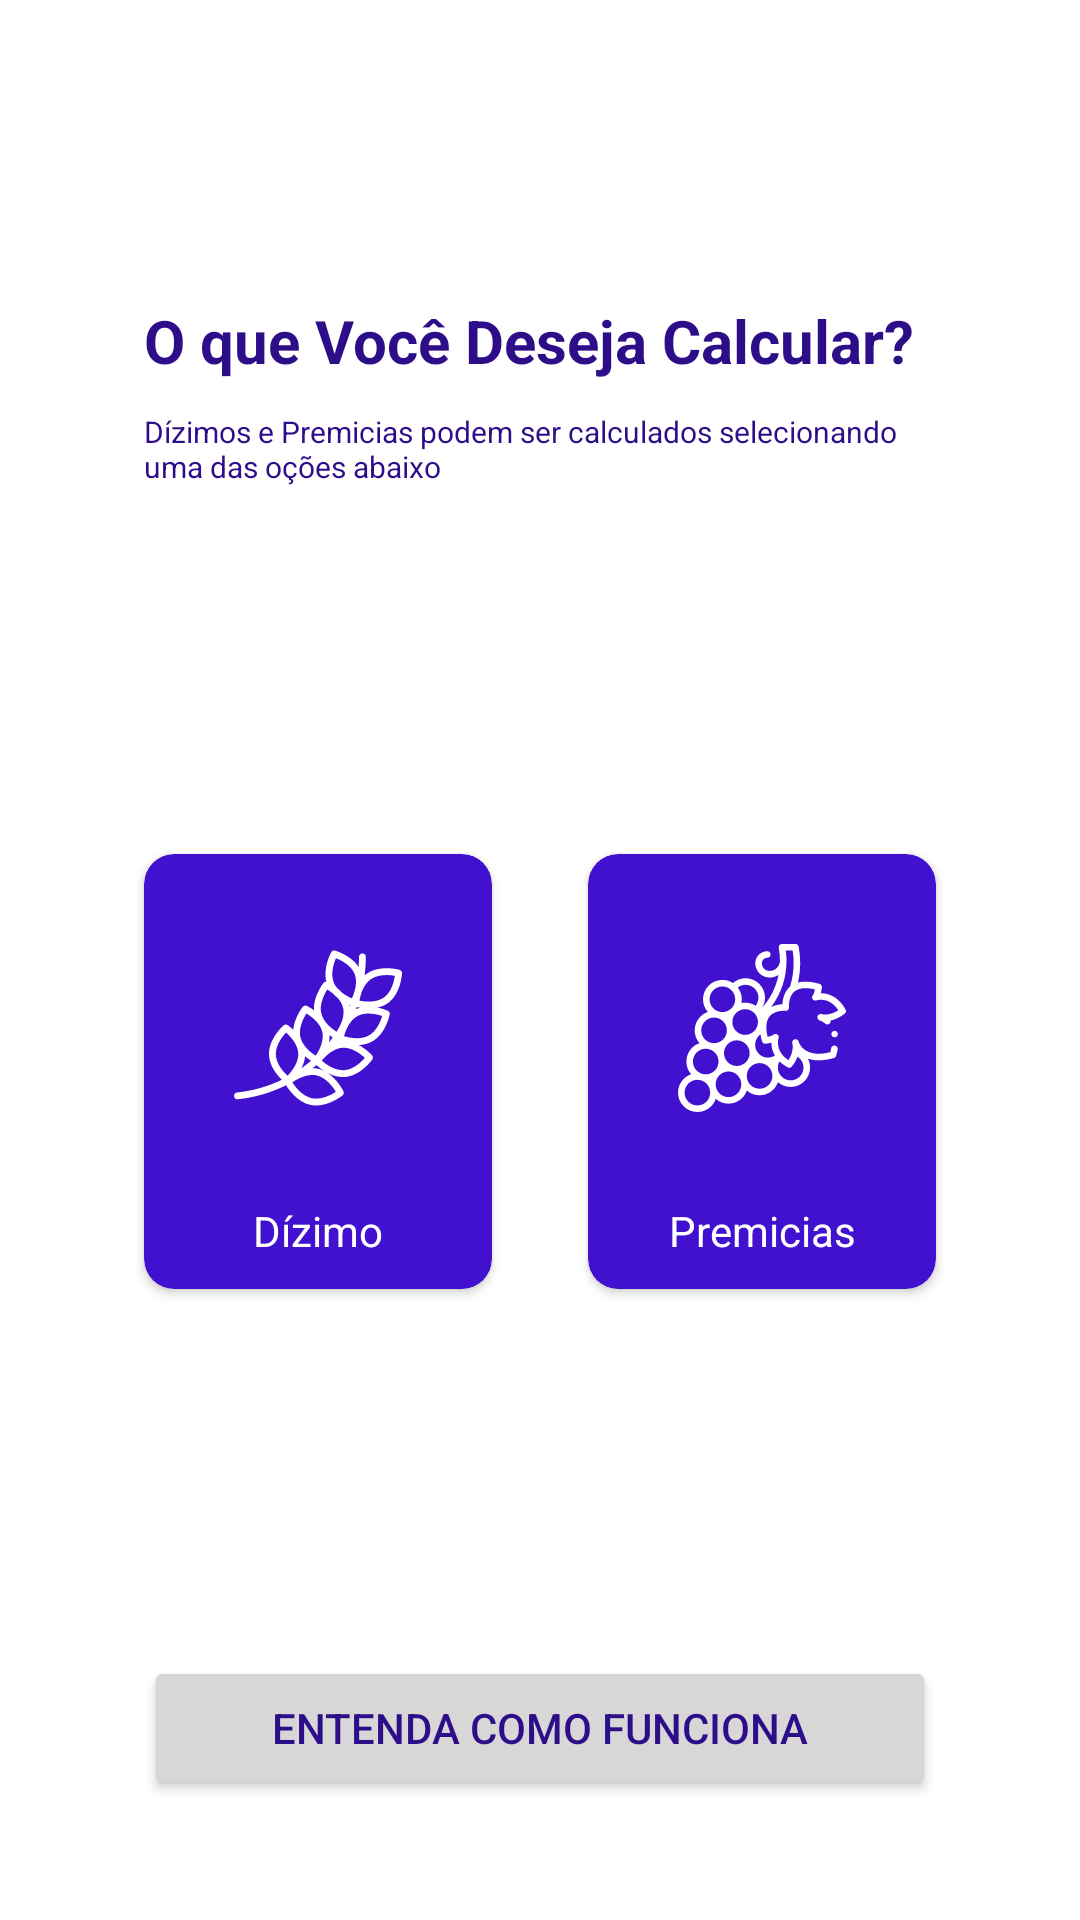

Screen size 1080*1920. Icon name, then its center in pixels as (x=x, y=y):
grapes: (x=762, y=1028)
wheat: (x=318, y=1028)
